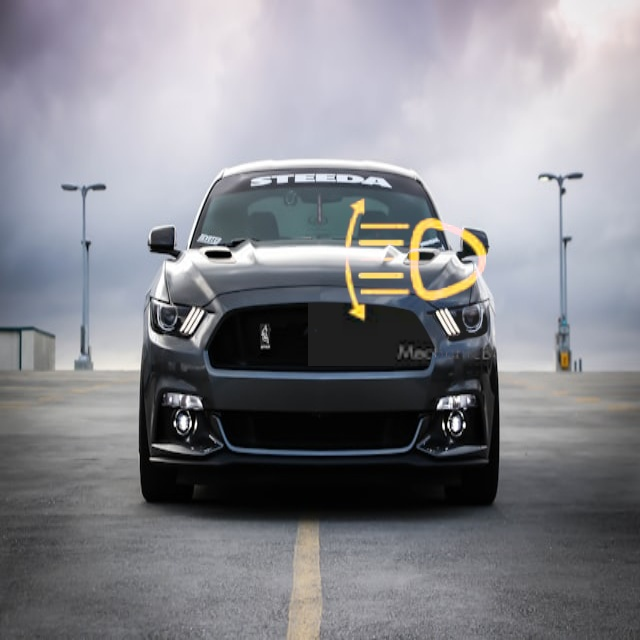symbol: (308, 148, 526, 366)
